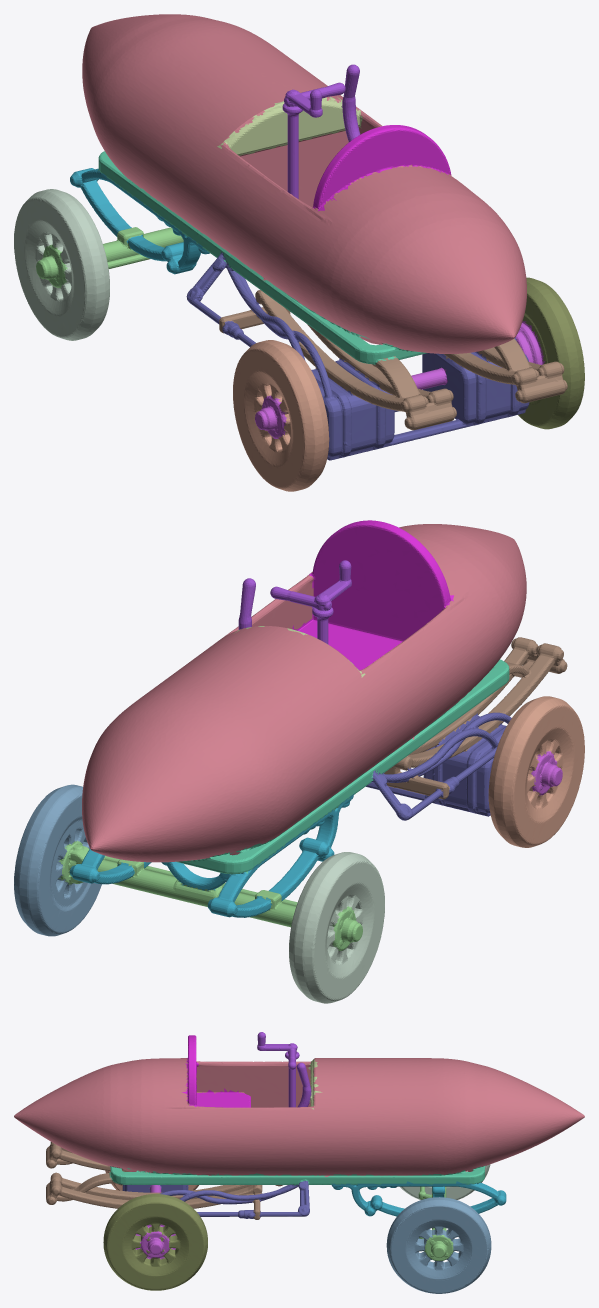
The picture shows the model from 3 angles, top to bottom: view 1: azimuth 30°, elevation 25°; view 2: azimuth 150°, elevation 25°; view 3: azimuth 270°, elevation 25°; orthographic projection. The views are drawn at different scales.
Visible parts, largest first — view 1: world; view 2: world; view 3: world.
Part boxes in pixels (x1,y1,x2,y2): world: (14, 14, 584, 491); world: (14, 520, 584, 1003); world: (14, 1032, 584, 1293).
Bounding box in the file's own units: 0.8336 × 0.7743 × 1.91.
